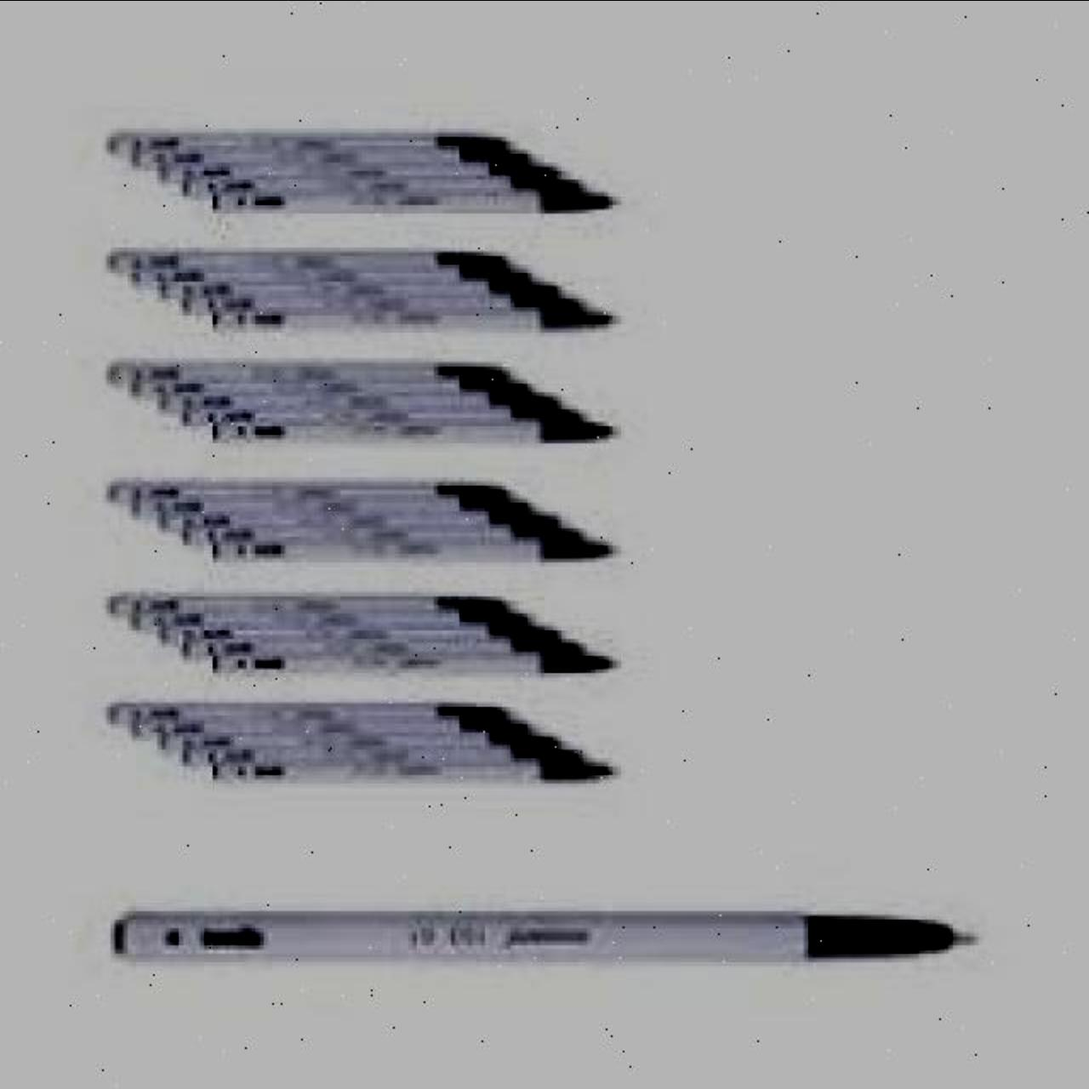pen: (107, 893, 989, 970), (204, 184, 630, 218), (209, 754, 635, 788), (209, 533, 626, 567), (209, 647, 626, 681), (209, 303, 623, 337), (213, 417, 626, 451)
